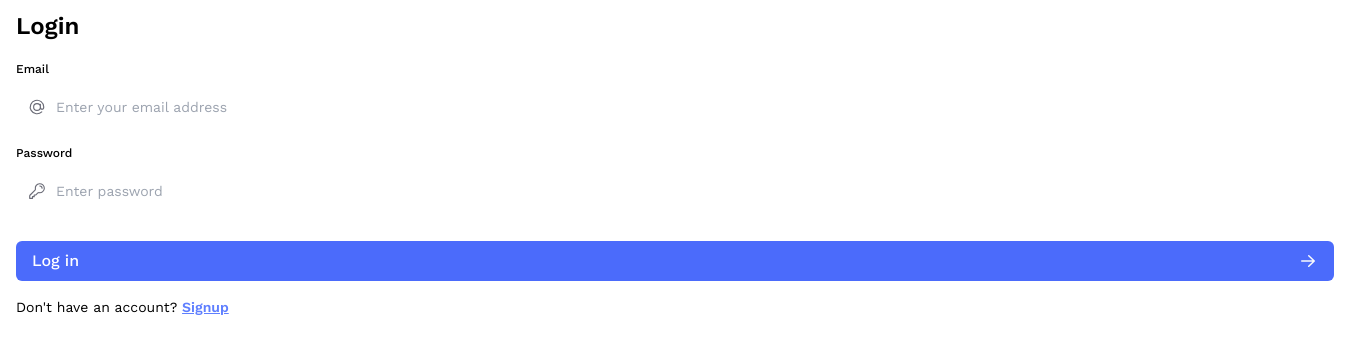
Signin Form › should return error Message
Type "hello@asdfghh.com" into the field labelled "Email" at (126, 107), box [16,89,235,125]
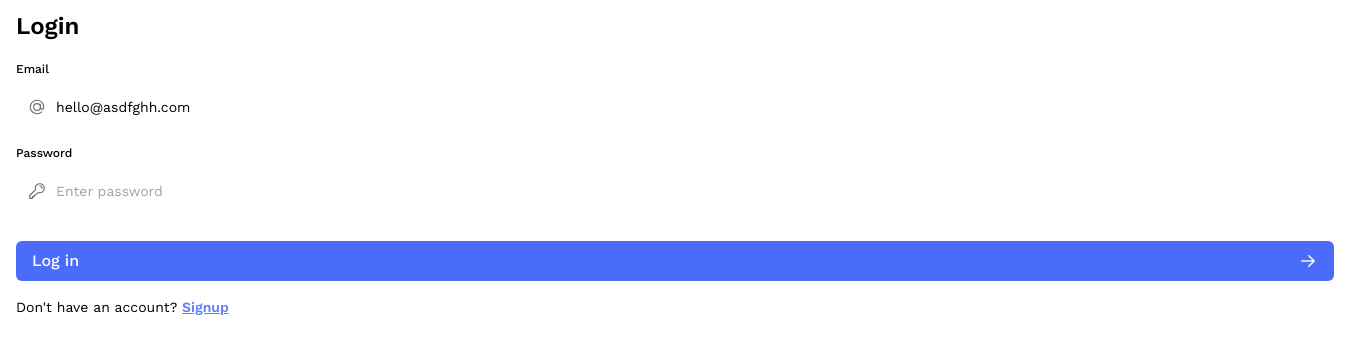
Type "123456" into the password field labelled "Password" at (126, 191), box [16,173,235,209]
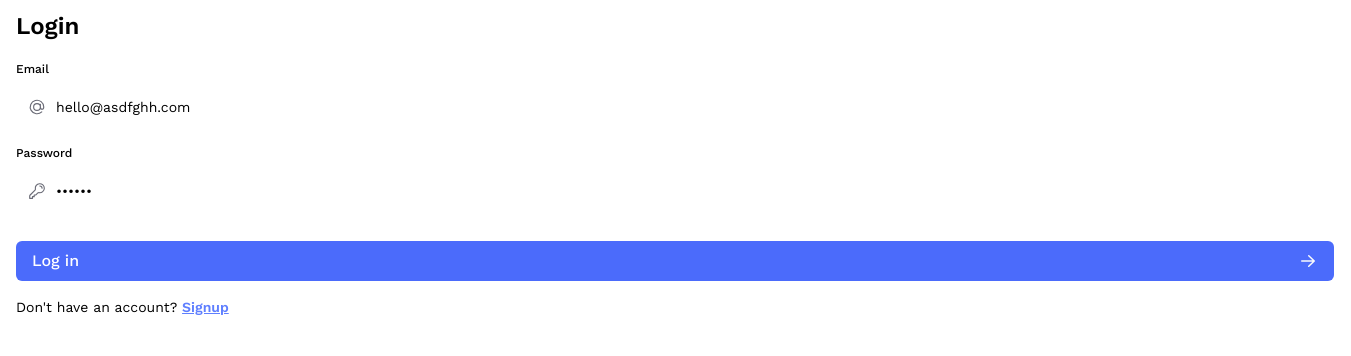
Click the button "Log in" at (56, 261), box [16,241,1334,281]
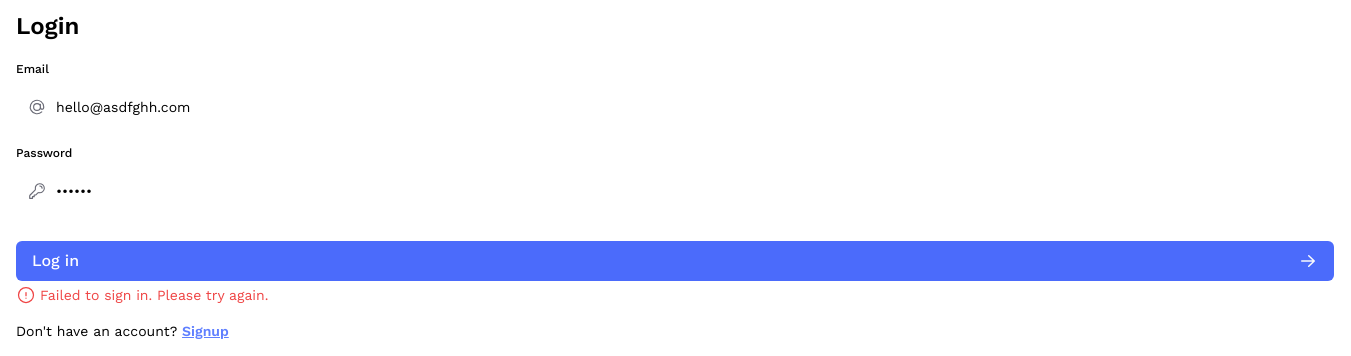
Check: the text "Failed to sign in. Please try again." is shown, box [40,285,268,305]
